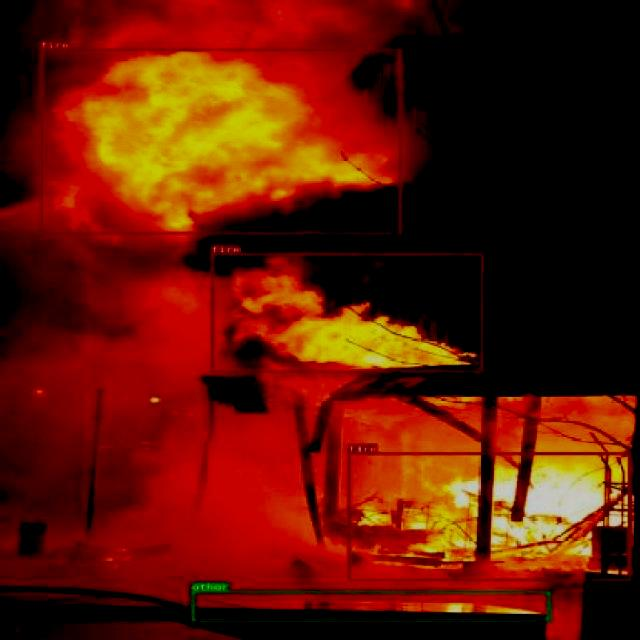fire: (39, 48, 402, 234), (346, 452, 632, 580), (211, 252, 484, 372)
